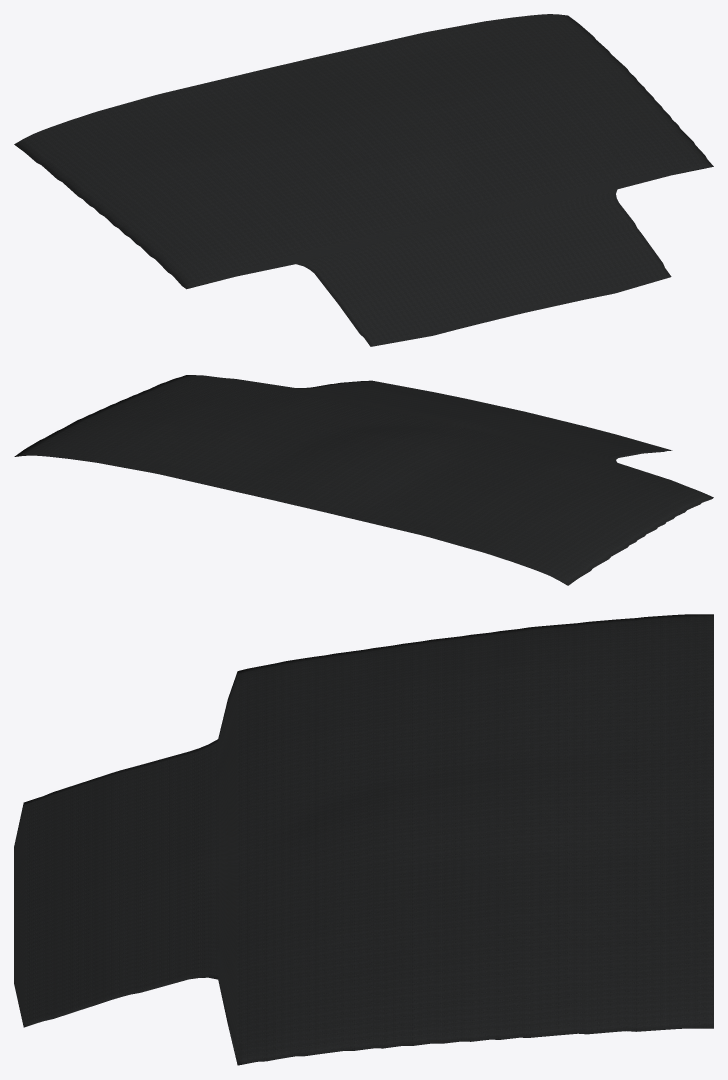
Rendered from DT78_bonnet_wrap_carbon.glb.
The picture shows the model from 3 angles, top to bottom: view 1: azimuth 30°, elevation 25°; view 2: azimuth 150°, elevation 25°; view 3: azimuth 270°, elevation 25°; orthographic projection. The views are drawn at different scales.
Visible parts, largest first — view 1: MOD_NA_DT78_wrap; view 2: MOD_NA_DT78_wrap; view 3: MOD_NA_DT78_wrap.
Part boxes in pixels (x1,y1,x2,y2): MOD_NA_DT78_wrap: (14,14,713,346); MOD_NA_DT78_wrap: (14,375,713,585); MOD_NA_DT78_wrap: (14,614,713,1065).
Bounding box in the file's own units: 1.37 × 0.1961 × 1.
1 material, 1 textured.
